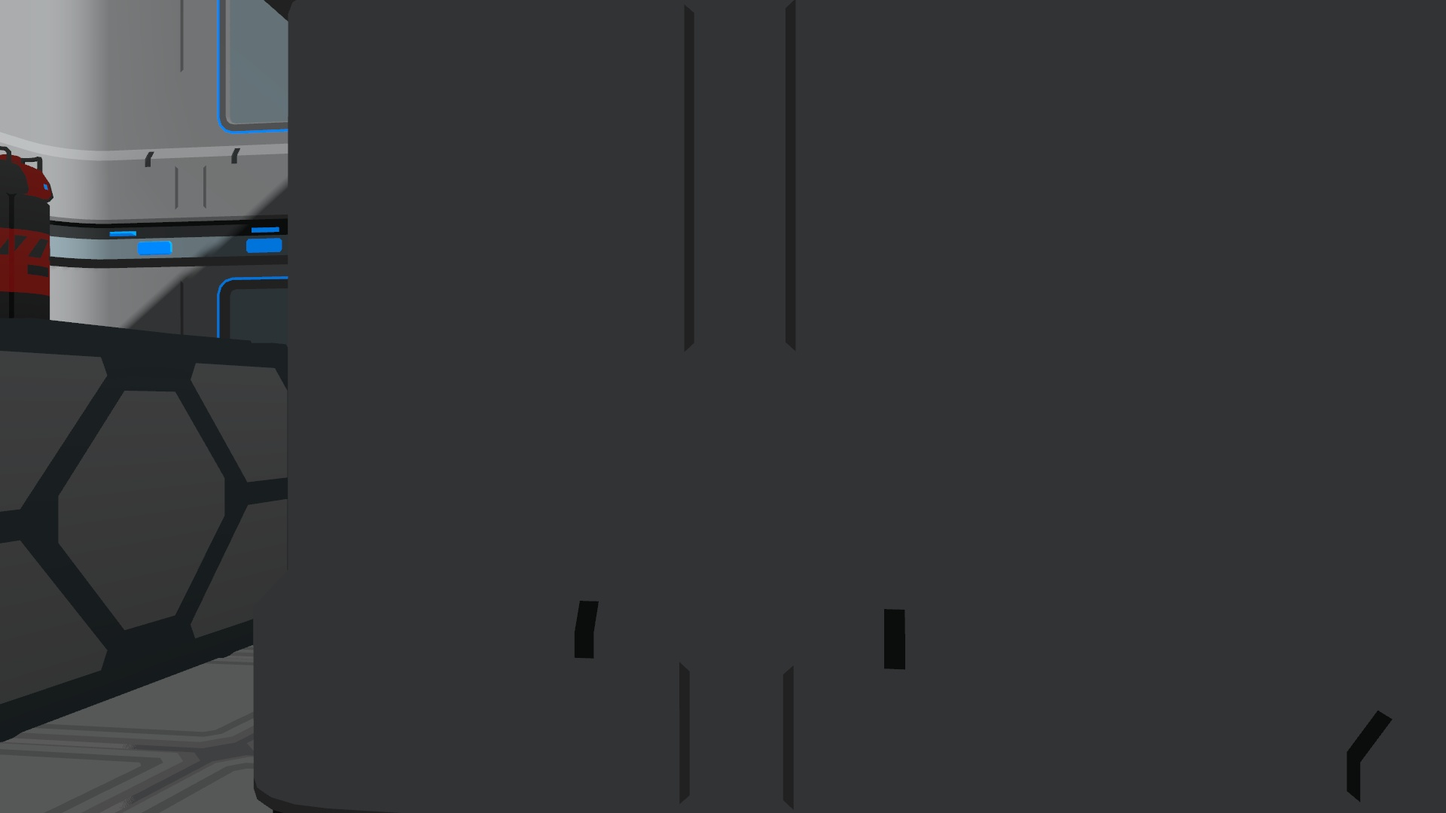red_barrel: (0, 150, 59, 325)
